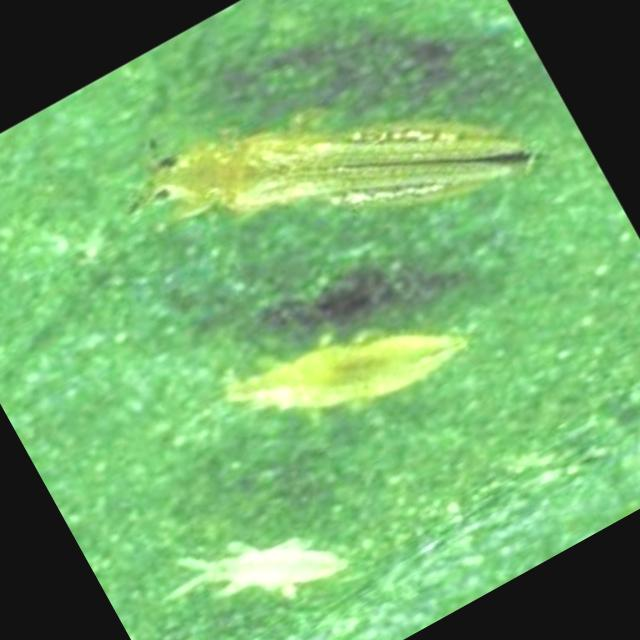melon thrips: (87, 0, 586, 379), (181, 223, 523, 521), (142, 470, 379, 640)
